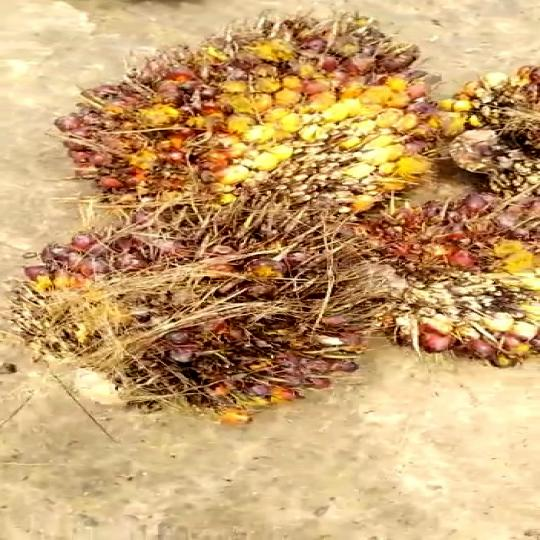masak: (9, 13, 540, 429)
